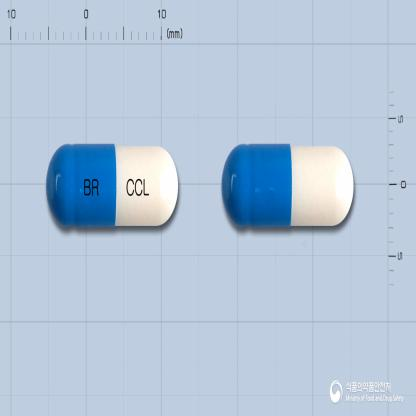pill: (219, 139, 354, 229), (45, 142, 180, 229)
